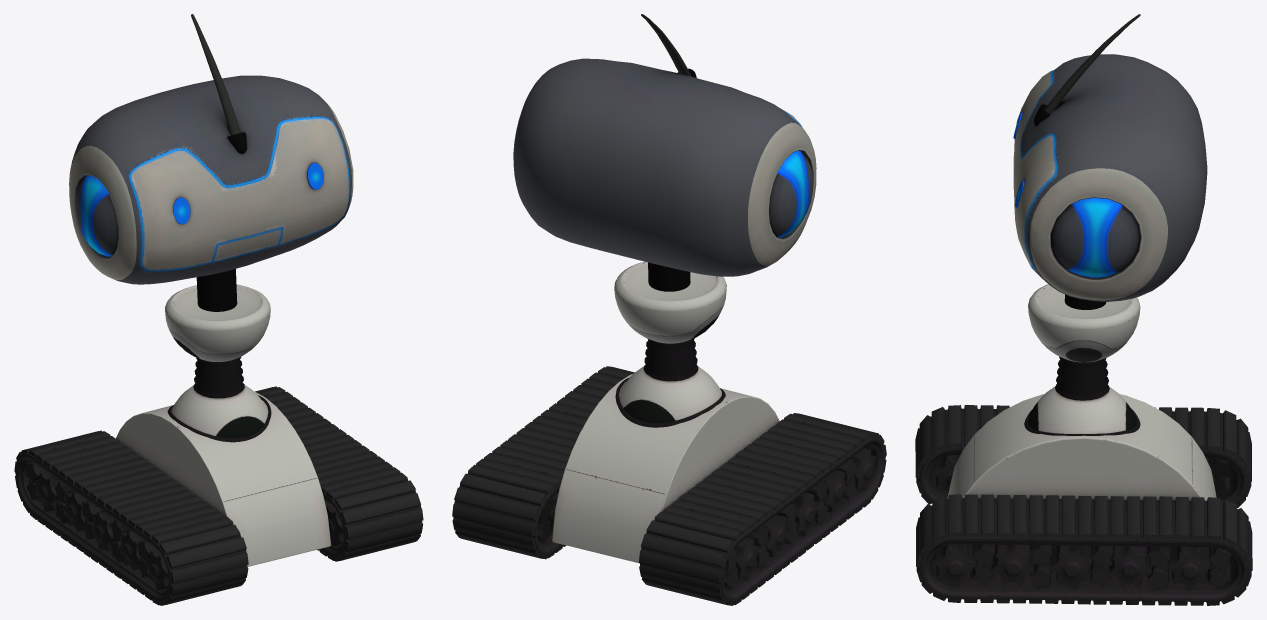
File: player.fbx
The picture shows the model from 3 angles, left to right: view 1: azimuth 30°, elevation 25°; view 2: azimuth 150°, elevation 25°; view 3: azimuth 270°, elevation 25°; orthographic projection. The views are drawn at different scales.
Visible parts, largest first — view 1: node_id38, node_id40; view 2: node_id38, node_id40; view 3: node_id38, node_id40.
Boxes of the visible parts, left/top/right/bottom form: node_id38: left=14, top=284, right=423, bottom=605; node_id40: left=69, top=14, right=353, bottom=311; node_id38: left=452, top=261, right=886, bottom=605; node_id40: left=513, top=14, right=816, bottom=291; node_id38: left=915, top=284, right=1252, bottom=605; node_id40: left=1013, top=14, right=1207, bottom=309.
Bounding box in the file's own units: 0.2501 × 0.4643 × 0.2684.
Materials: 2 (2 with a texture image).
